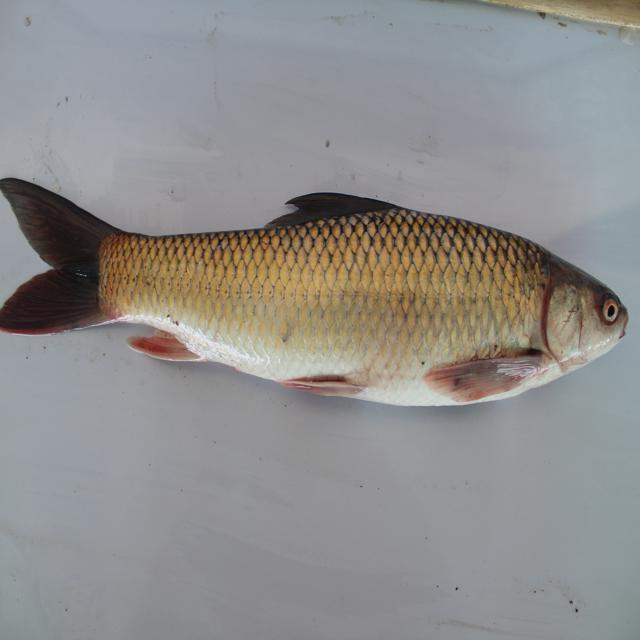Mori: (1, 166, 640, 419)
